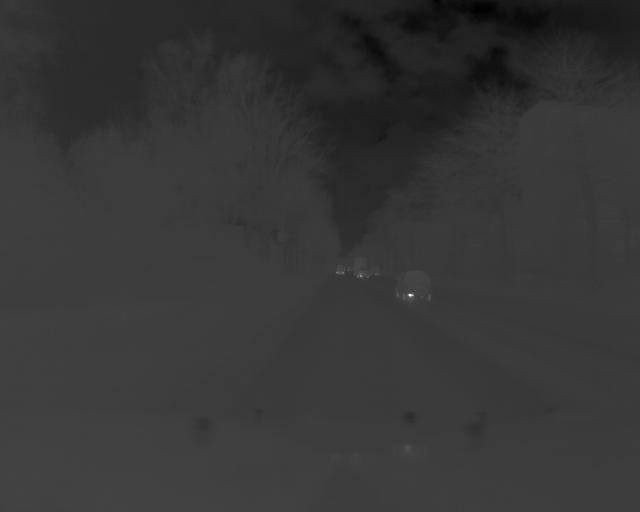car: (392, 266, 435, 302), (333, 261, 348, 277), (356, 267, 372, 280)
